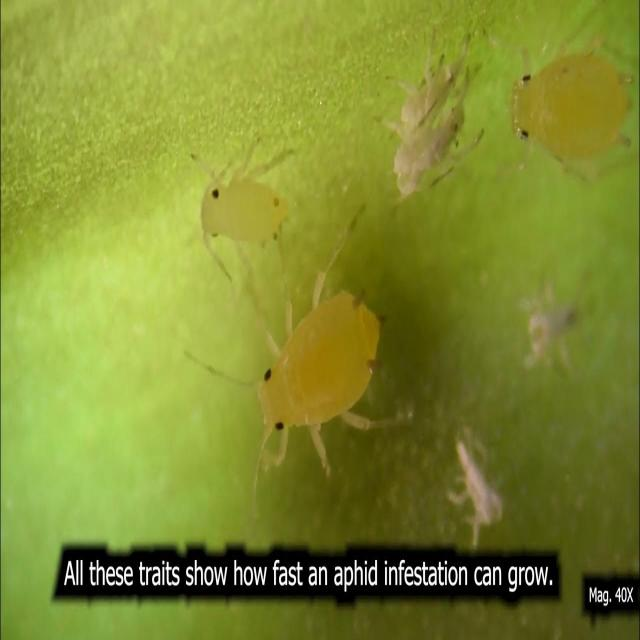Aphid-Grown-: (212, 258, 421, 476), (501, 37, 637, 189), (188, 130, 304, 272)
